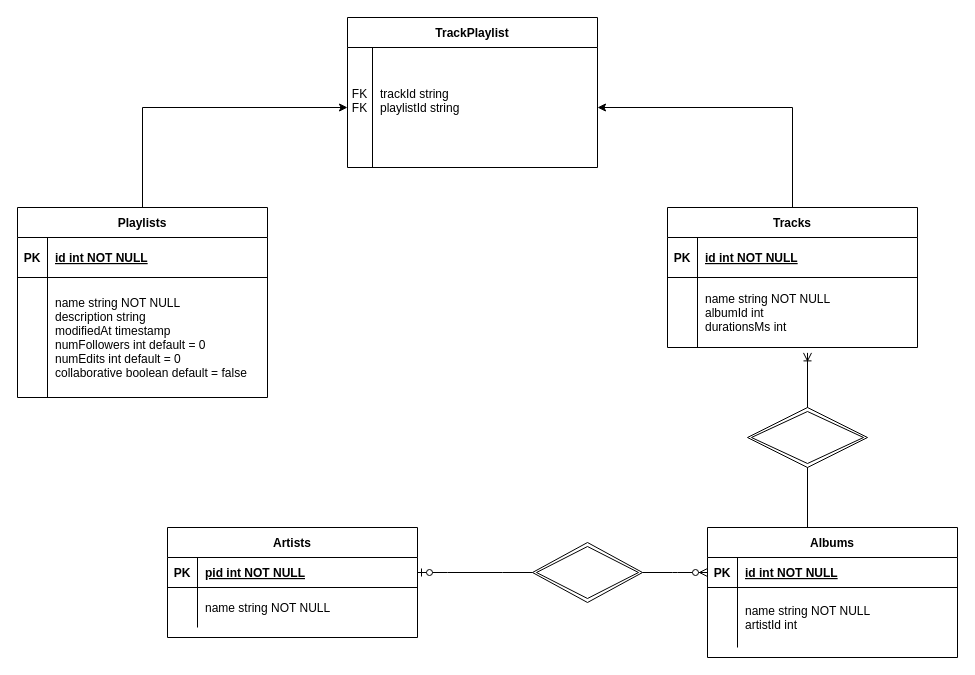
This 975x675 diagram has some shape labels left out. The centre of each missing label's shape, as x and y in pixels:
Contains: the point at 807,437
Creates: the point at 587,572
